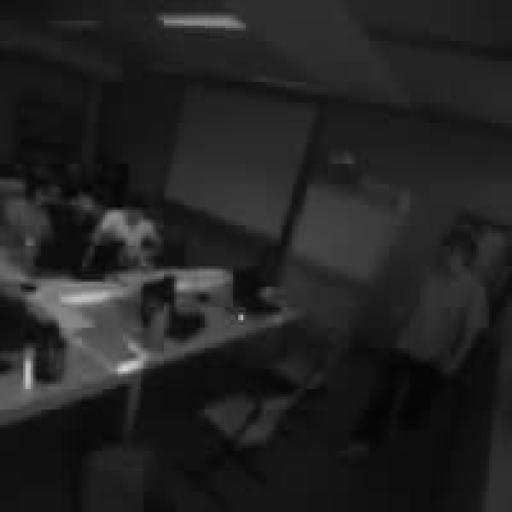human: (341, 233, 488, 455), (90, 200, 161, 268), (3, 175, 51, 266)
